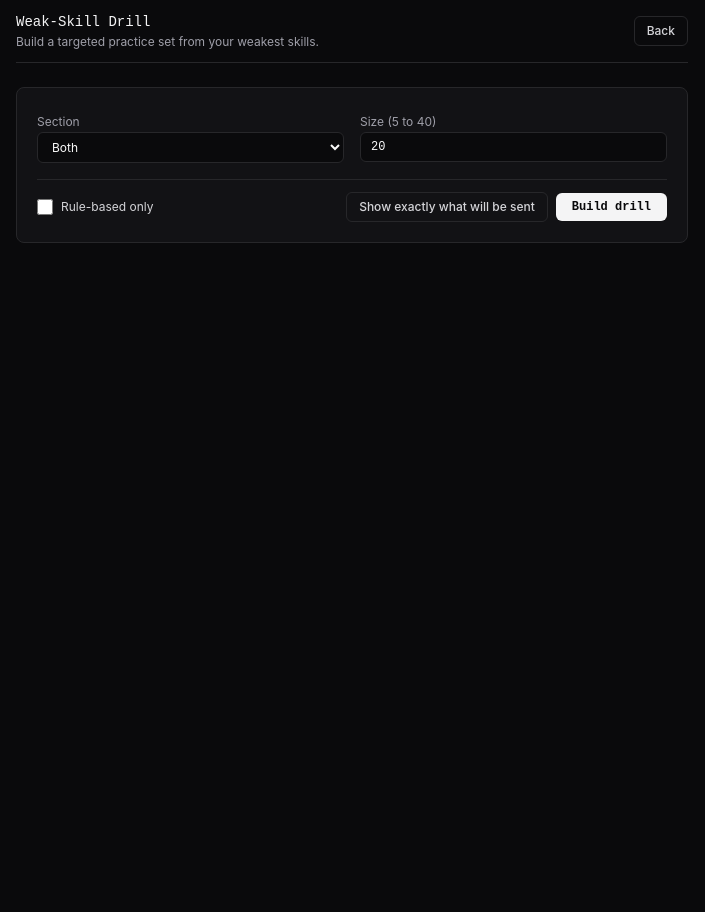
Test: WeakDrillScreen › forces preview before first build when previewSeen lacks weak_drill
// First click: preview is not seen, so preview is forced
Click the button "Build drill": click(611, 207) [556, 193, 667, 221]
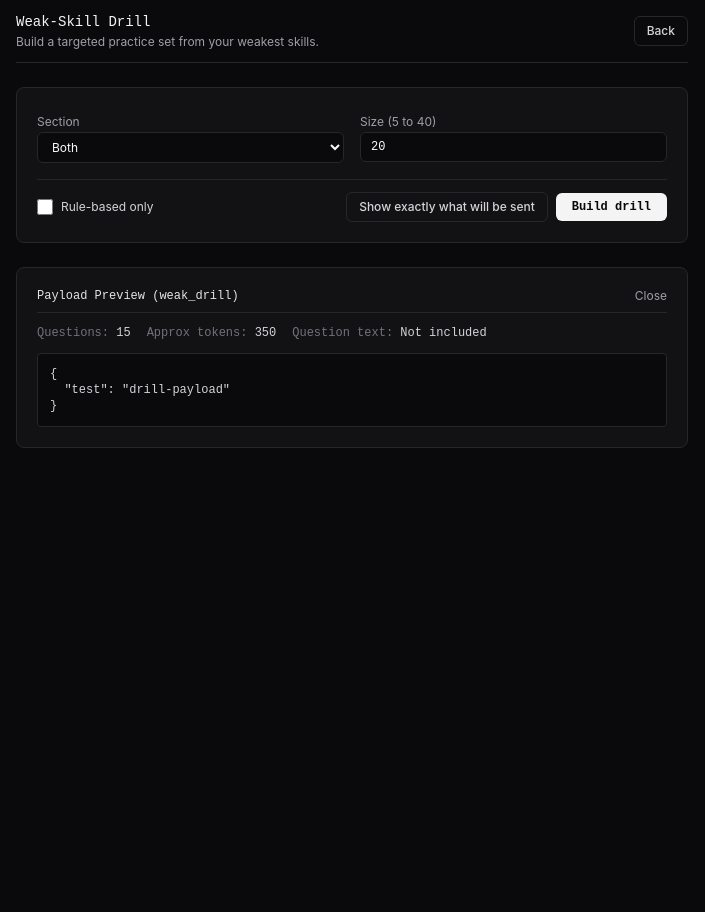
Check: the text "Payload Preview (weak_drill)" is shown, box [37, 288, 239, 304]
Check: the text "drill-payload" is shown, box [50, 367, 230, 413]
// Second click: now previewSeen includes 'weak_drill', so weakDrill is called
Click the button "Build drill": click(611, 207) [556, 193, 667, 221]
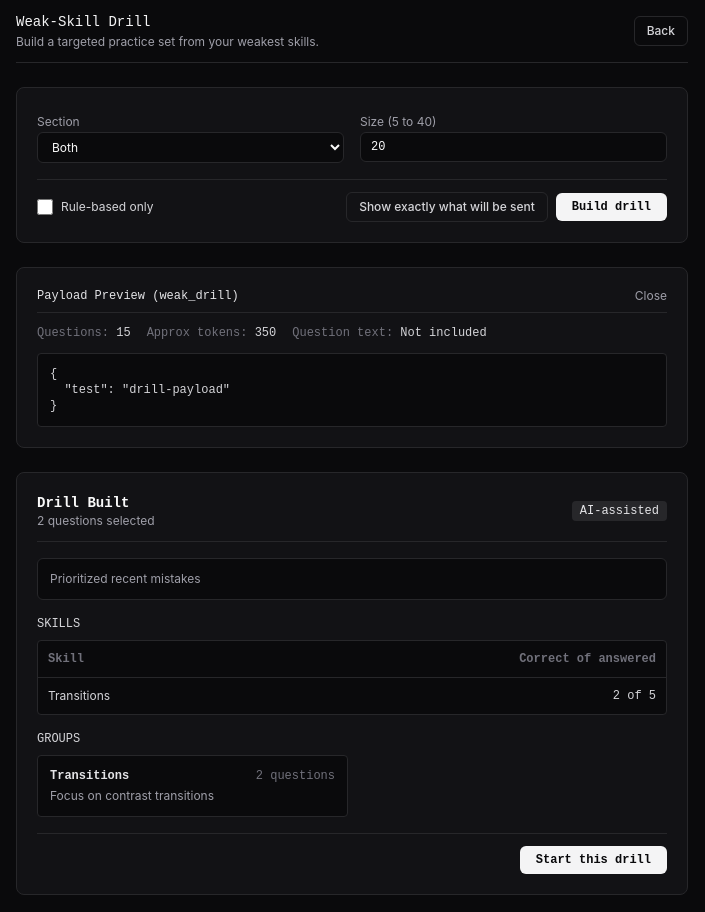
Check: the text "Drill Built" is shown, box [37, 495, 129, 511]
